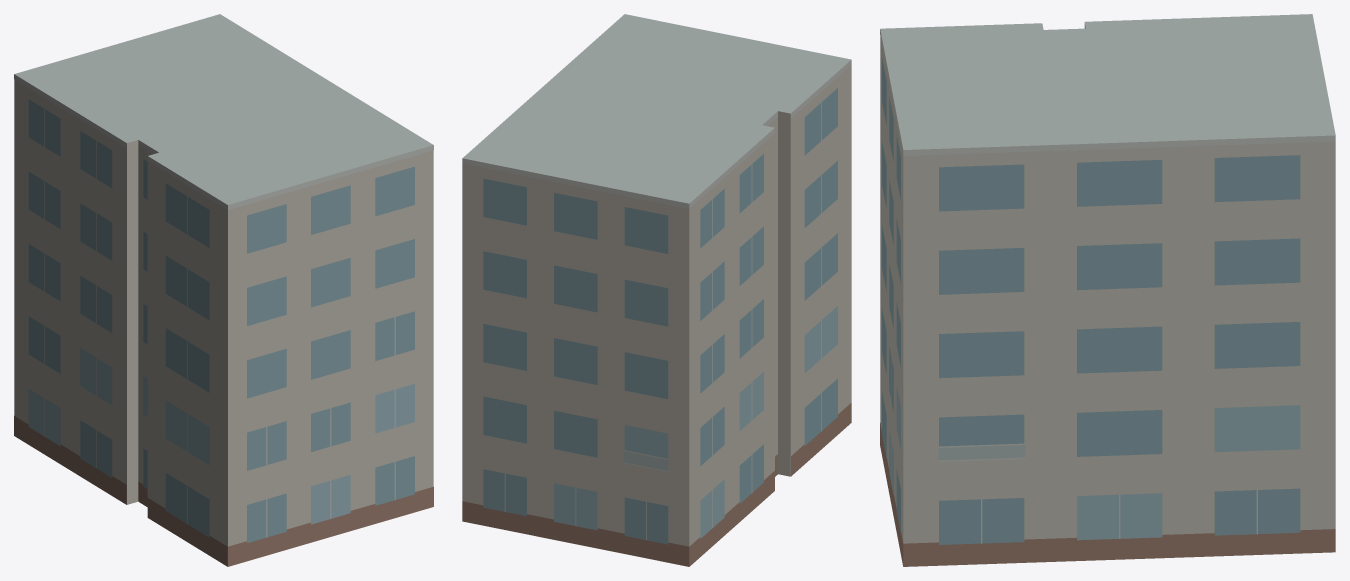
File: survey-upis-32754594.glb
The picture shows the model from 3 angles, left to right: view 1: azimuth 30°, elevation 25°; view 2: azimuth 150°, elevation 25°; view 3: azimuth 270°, elevation 25°; orthographic projection. The views are drawn at different scales.
Visible parts, largest first — view 1: survey-upis-32754594.tmp; view 2: survey-upis-32754594.tmp; view 3: survey-upis-32754594.tmp.
Part boxes in pixels (x1,y1,x2,y2): survey-upis-32754594.tmp: [14, 14, 433, 566]; survey-upis-32754594.tmp: [462, 14, 851, 566]; survey-upis-32754594.tmp: [880, 14, 1335, 566].
Size of the model in its own units: 11.98 by 17.1 by 16.95.
